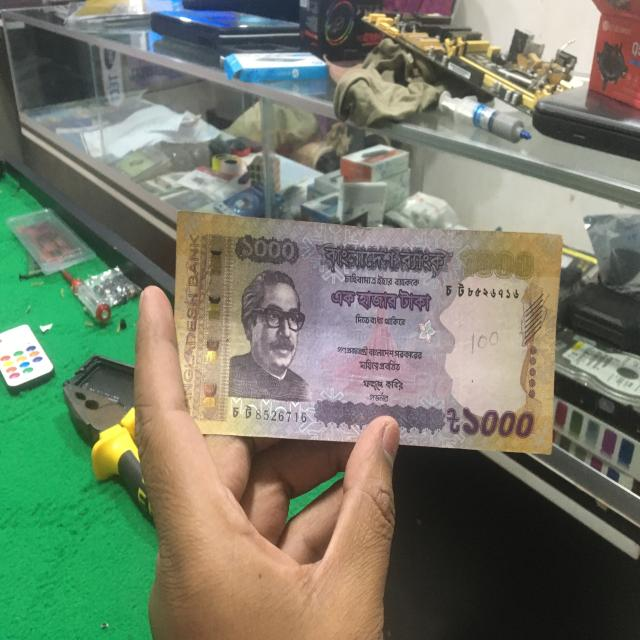Taka: (175, 216, 558, 453)
